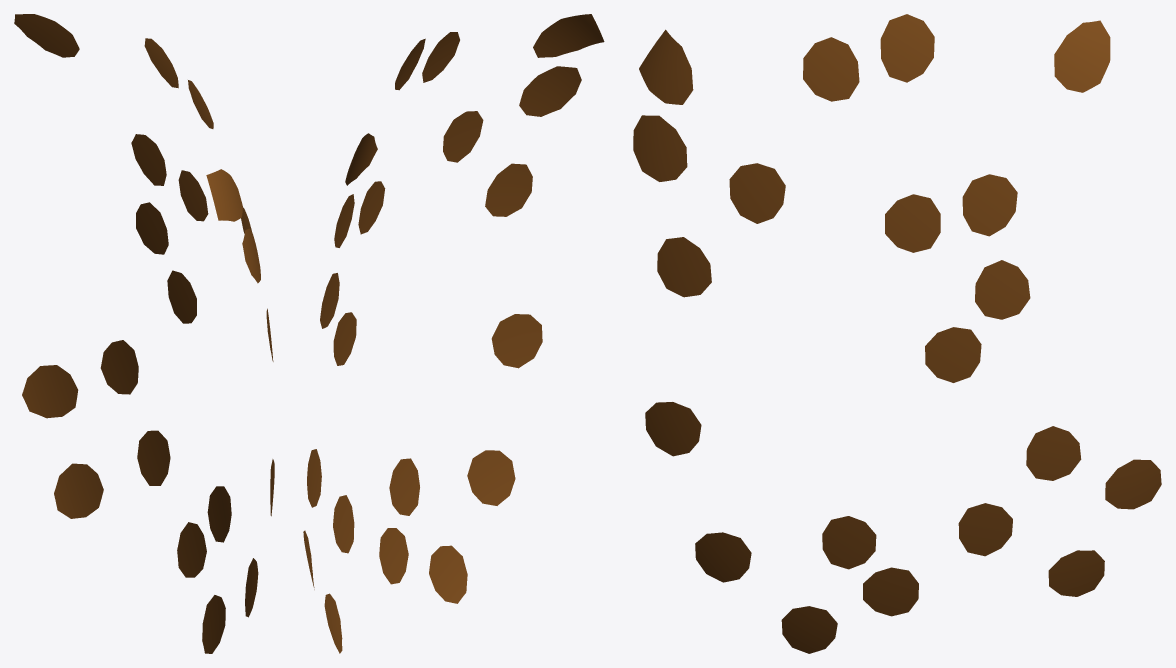
The model's file is SM_OpalDepth_Islands.obj.
3 renders of one model, left to right at view 1: azimuth 30°, elevation 25°; view 2: azimuth 150°, elevation 25°; view 3: azimuth 270°, elevation 25°, orthographic. The views are drawn at different scales.
Visible parts, largest first — view 1: Body; view 2: Body; view 3: Body.
Boxes of the visible parts, <box> form: Body: <box>14,14,274,653</box>; Body: <box>303,14,604,653</box>; Body: <box>633,14,1161,653</box>.
Size of the model in its own units: 1.62 by 8.21 by 6.19.
